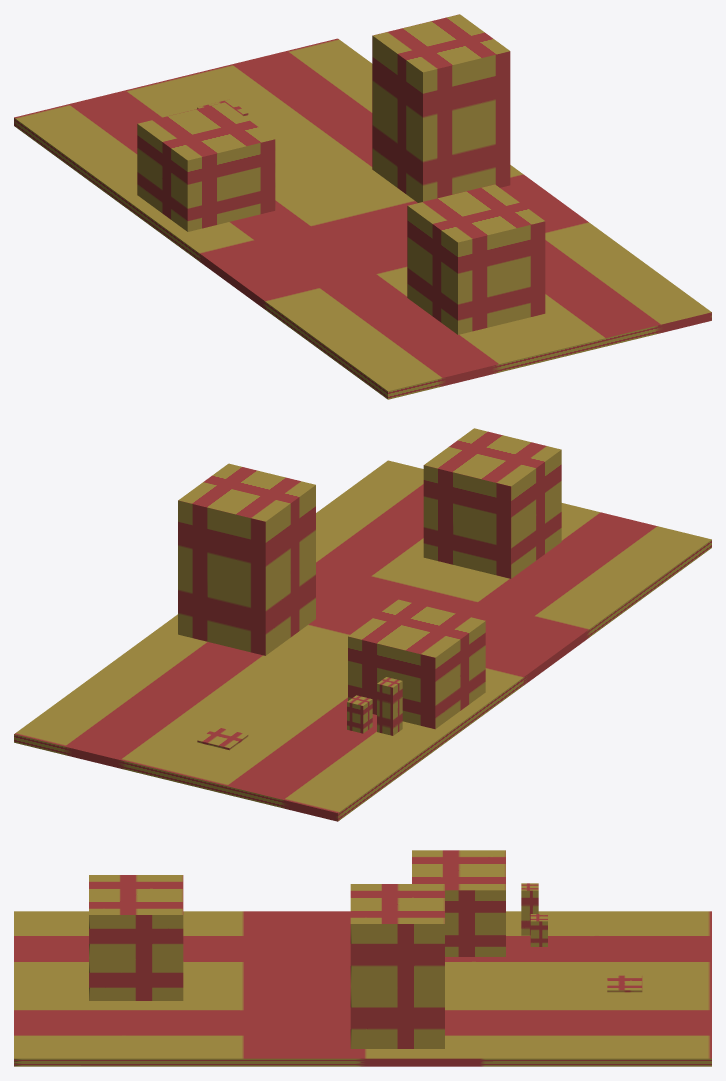
Rendered from stage6.obj.
The picture shows the model from 3 angles, top to bottom: view 1: azimuth 30°, elevation 25°; view 2: azimuth 150°, elevation 25°; view 3: azimuth 270°, elevation 25°; orthographic projection. The views are drawn at different scales.
Parts seen in each view (by area): view 1: 立方体; view 2: 立方体; view 3: 立方体.
Part boxes in pixels (x1=…): 立方体: x1=14, y1=14, x2=711, y2=399; 立方体: x1=14, y1=428, x2=711, y2=821; 立方体: x1=14, y1=850, x2=711, y2=1066.
Size of the model in its own units: 52 by 21.88 by 104.
